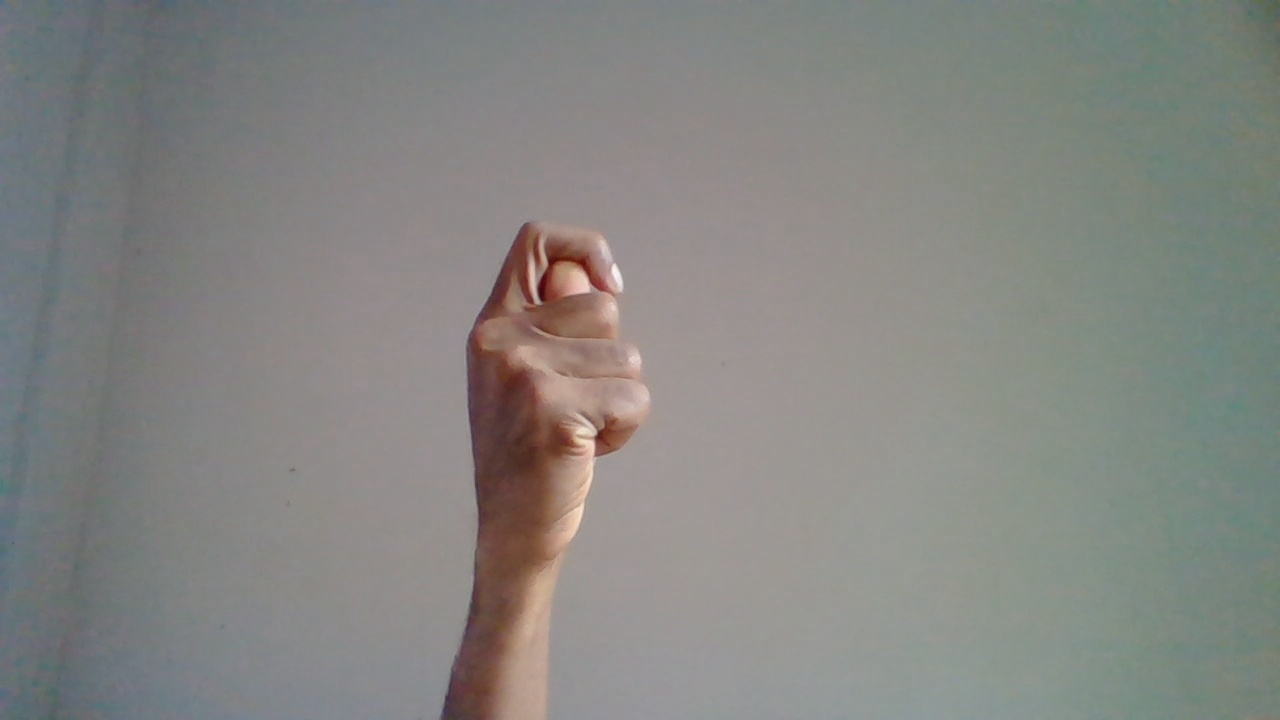che: (451, 218, 652, 711)
